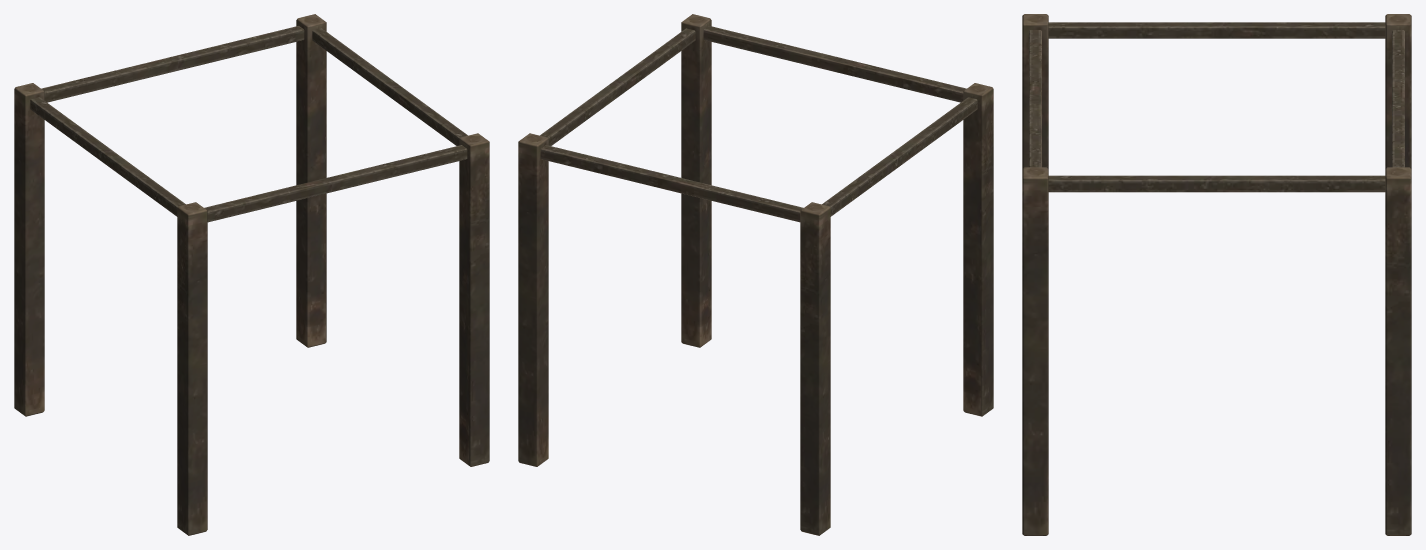
File: foundation.frontier.glb
3 renders of one model, left to right at view 1: azimuth 30°, elevation 25°; view 2: azimuth 150°, elevation 25°; view 3: azimuth 270°, elevation 25°, orthographic. The views are drawn at different scales.
Parts seen in each view (by area): view 1: model; view 2: model; view 3: model.
Part boxes in pixels (x1,y1,x2,y2): model: (14,14,489,535); model: (518,14,993,535); model: (1022,14,1411,535).
Bounding box in the file's own units: 2.98 × 3.03 × 2.98.
1 material, 1 textured.
